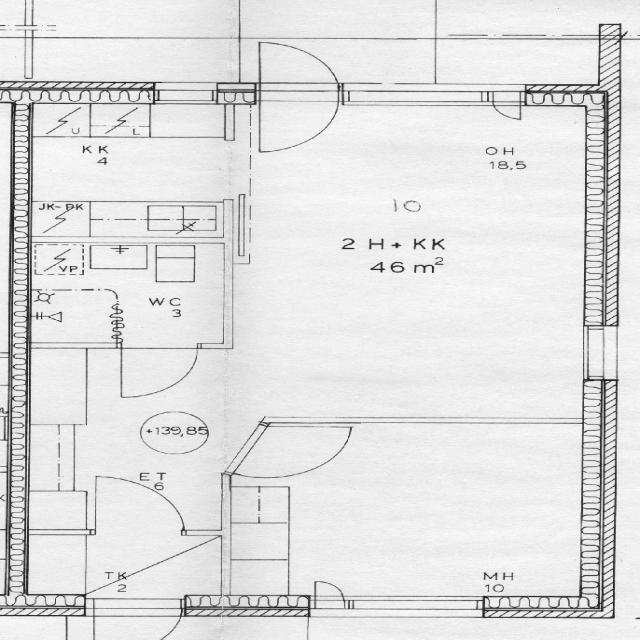door: (224, 424, 341, 494), (258, 33, 338, 101), (258, 82, 338, 150), (95, 474, 183, 534), (121, 343, 197, 394)
